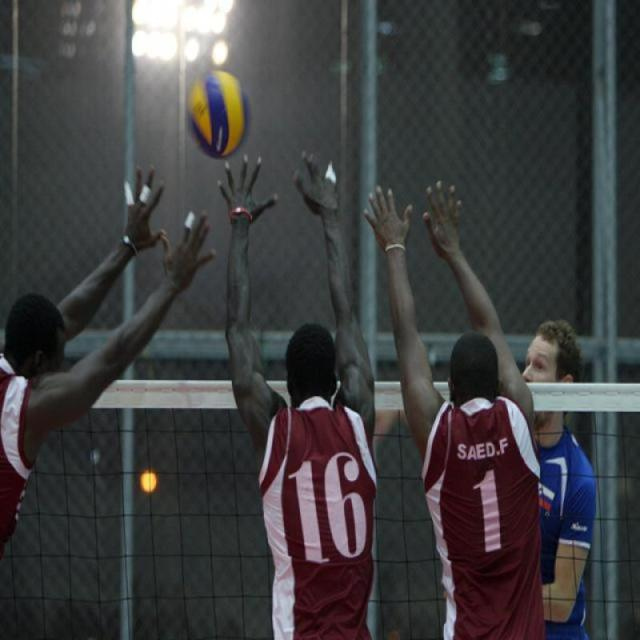volleyball: (184, 70, 248, 160)
